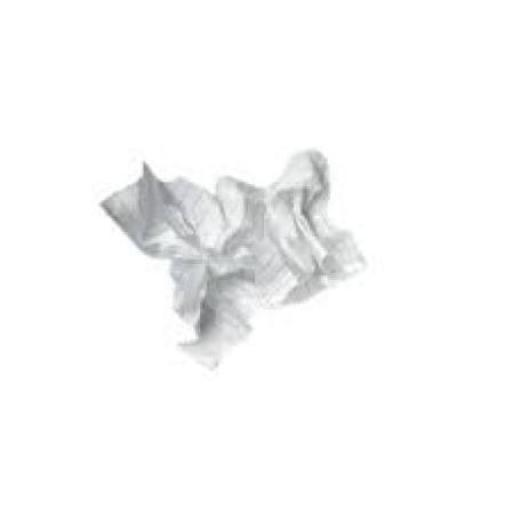paper: (46, 130, 442, 366)
